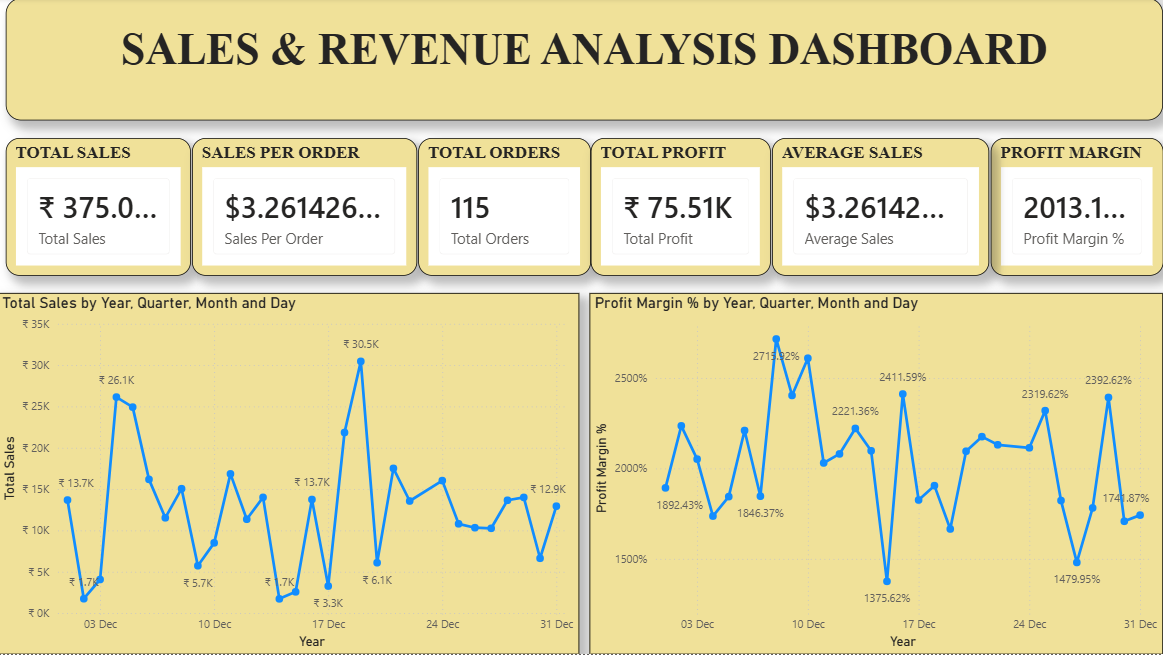

The page's visual inventory and layout, read from the dashboard file:
{"tool":"powerbi","page":{"name":"Page 1","canvas":[1280,720],"ordinal":0},"visuals":[{"type":"textbox","box":[9.6,0,1270.7,134.5],"z":0},{"type":"cardVisual","title":"TOTAL SALES ","fields":{"Data":["ecommerce_sales_data (2).Total Sales"]},"box":[9.6,153.7,203.1,150.9],"z":1000},{"type":"cardVisual","title":"SALES PER ORDER","fields":{"Data":["ecommerce_sales_data (2).Sales Per Order"]},"box":[213.8,153.7,247,150.9],"z":2000},{"type":"cardVisual","title":"TOTAL ORDERS ","fields":{"Data":["ecommerce_sales_data (2).Total Orders"]},"box":[461.9,153.7,189.4,150.9],"z":3000},{"type":"cardVisual","title":"TOTAL PROFIT","fields":{"Data":["ecommerce_sales_data (2).Total Profit"]},"box":[652.4,153.7,197.6,150.9],"z":4000},{"type":"cardVisual","title":"PROFIT MARGIN","fields":{"Data":["ecommerce_sales_data (2).Profit Margin %"]},"box":[1090.6,153.7,189.4,150.9],"z":5000},{"type":"cardVisual","title":"AVERAGE SALES ","fields":{"Data":["ecommerce_sales_data (2).Average Sales"]},"box":[851,153.7,238.8,150.9],"z":6000},{"type":"lineChart","fields":{"Y":["ecommerce_sales_data (2).Total Sales"],"Category":["ecommerce_sales_data (2).Order Date.Variation.Date Hierarchy.Year","ecommerce_sales_data (2).Order Date.Variation.Date Hierarchy.Quarter","ecommerce_sales_data (2).Order Date.Variation.Date Hierarchy.Month","ecommerce_sales_data (2).Order Date.Variation.Date Hierarchy.Day"]},"box":[0,323.8,639.5,396.6],"z":6001},{"type":"lineChart","fields":{"Y":["ecommerce_sales_data (2).Profit Margin %"],"Category":["ecommerce_sales_data (2).Order Date.Variation.Date Hierarchy.Year","ecommerce_sales_data (2).Order Date.Variation.Date Hierarchy.Quarter","ecommerce_sales_data (2).Order Date.Variation.Date Hierarchy.Month","ecommerce_sales_data (2).Order Date.Variation.Date Hierarchy.Day"]},"box":[650.4,323.8,629.8,396.6],"z":6002}]}

Visuals, with their boxes in screenshot pixels (x1, y1, x2, y2), scaled from the page's 1280x720 canvas onto the 1163x655 screenshot:
textbox: 9,0,1162,122
"TOTAL SALES " cardVisual: 9,140,193,277
"SALES PER ORDER" cardVisual: 194,140,419,277
"TOTAL ORDERS " cardVisual: 420,140,592,277
"TOTAL PROFIT" cardVisual: 593,140,772,277
"PROFIT MARGIN" cardVisual: 991,140,1162,277
"AVERAGE SALES " cardVisual: 773,140,990,277
lineChart - ecommerce_sales_data (2).Total Sales x ecommerce_sales_data (2).Order Date.Variation.Date Hierarchy.Year: 0,295,581,654
lineChart - ecommerce_sales_data (2).Profit Margin % x ecommerce_sales_data (2).Order Date.Variation.Date Hierarchy.Year: 591,295,1162,654
